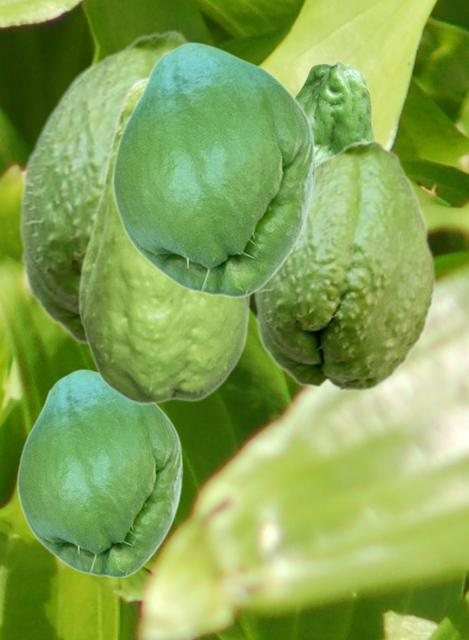sayote: (77, 75, 251, 405), (18, 28, 193, 348), (111, 42, 315, 298), (253, 138, 436, 392), (16, 369, 182, 578), (295, 60, 375, 161)
